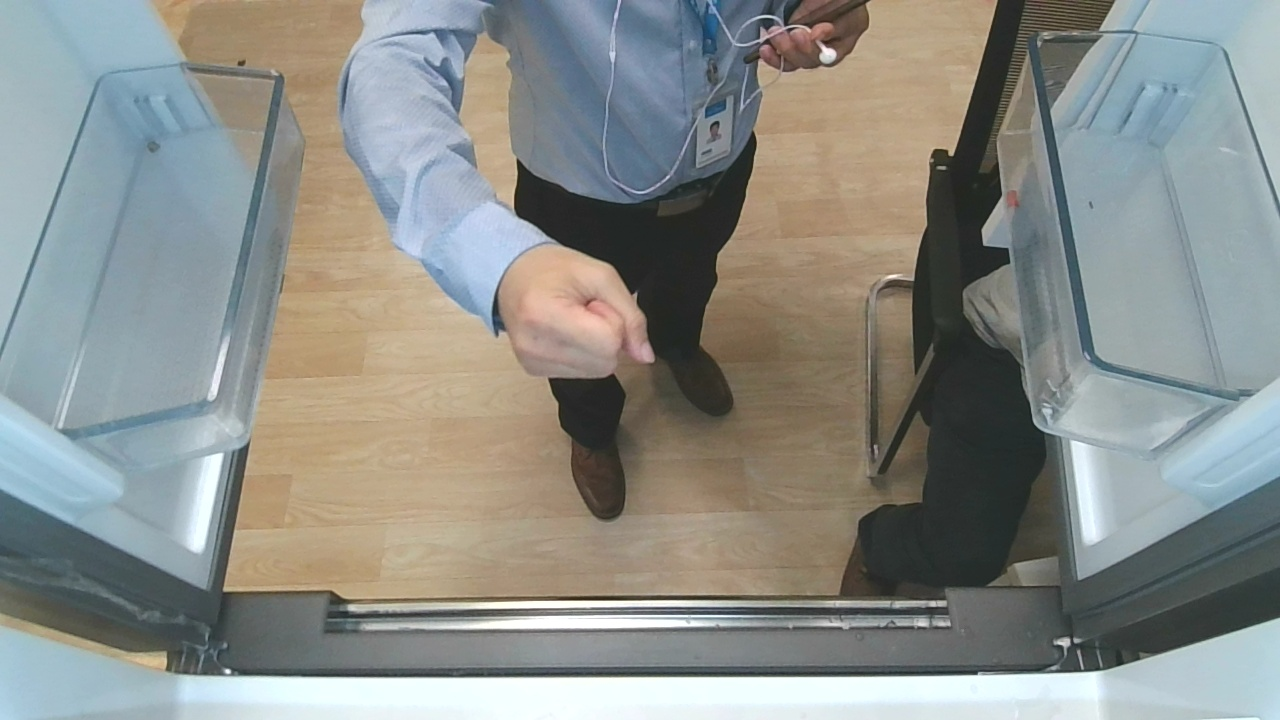hand: (507, 260, 654, 379)
